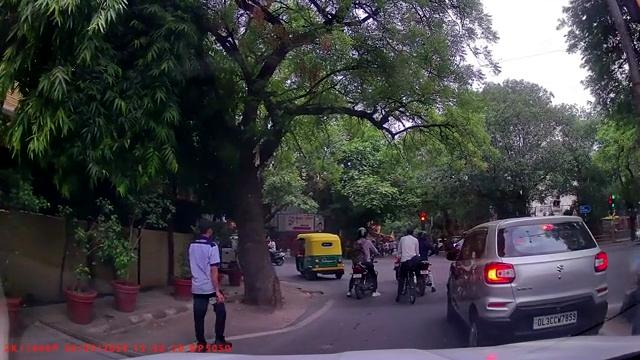motorcycle_with_helmet: (346, 226, 380, 300)
